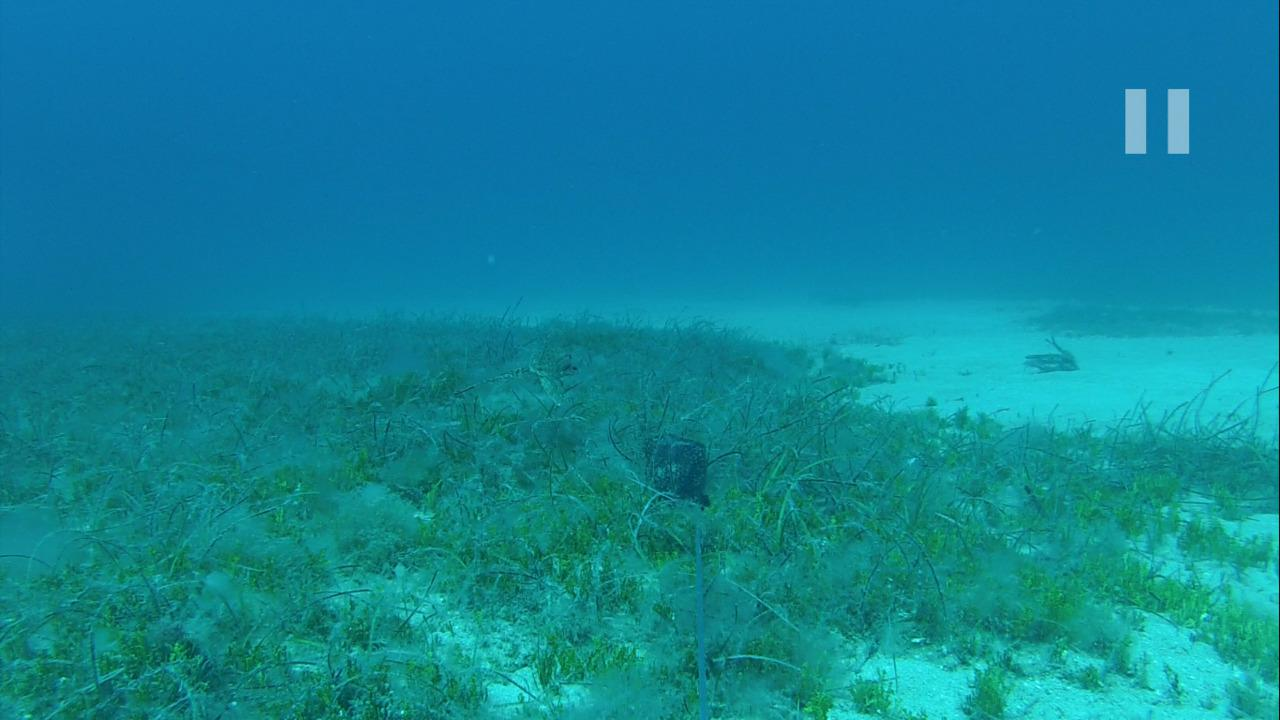dactylopterus: (431, 348, 582, 421)
